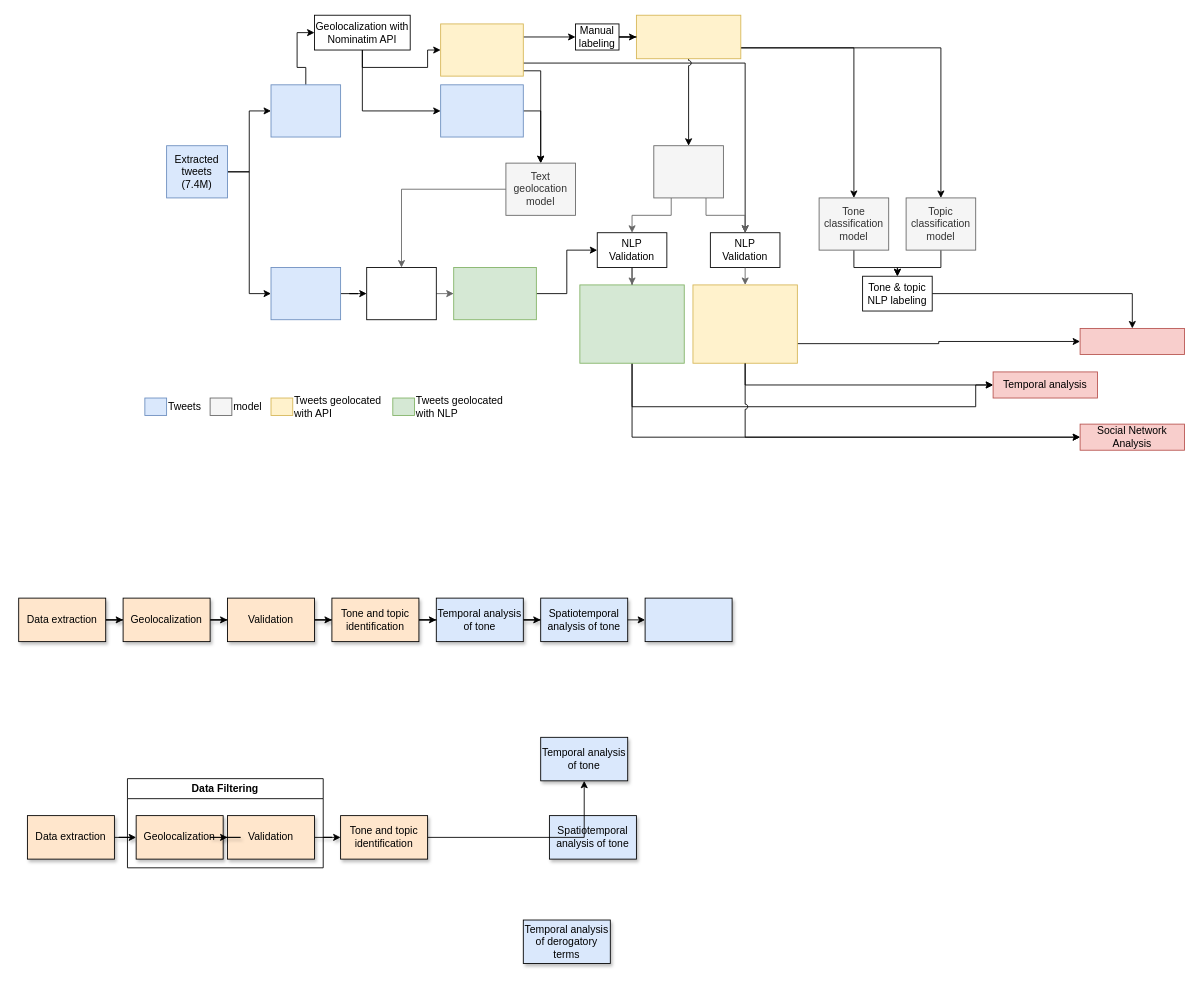
Some shapes in this 1200 by 985 pixel diagram are drawn without their labels. The centre of each missing label's shape, as x and y in pixels:
"NLP Geolocation" belongs at (401,293).
"Spatio-temporal analysis" belongs at (1132,341).
"Temporal analysis of pejorative terms" belongs at (689,621).
"Tweets API Geolocated from Colombia (350K)" belongs at (481,49).
"Tweets API Geolocated outside Colombia (2M)" belongs at (481,110).
"Tweets NLP Geolocated from Colombia (1.65M)" belongs at (494,293).
"Tweets NLP-validated API Geolocated About migration (200K)" belongs at (744,323).
"Tweets NLP-validated NLP Geolocated About migration (1.45M)" belongs at (631,323).
"Tweets sample Manually labeled (5K)" belongs at (688,36).
"Tweets with Geolocation activated (2.35M)" belongs at (305,110).
"Tweets with Geolocation deactivated (5.1M)" belongs at (305,293).
"Validation model" belongs at (688,171).
